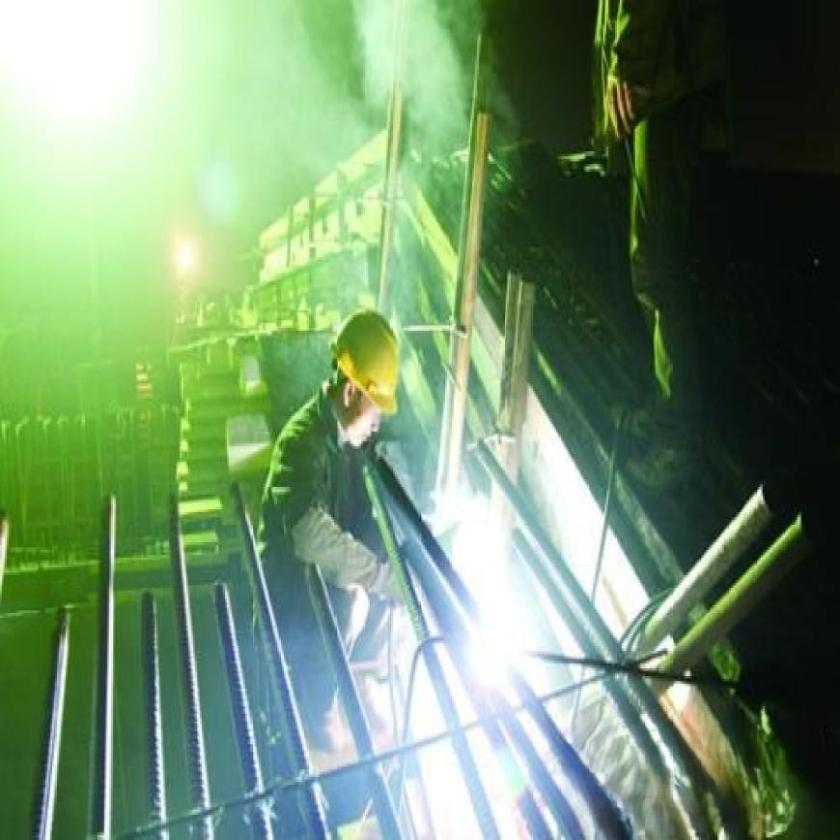Con_casco: (325, 307, 411, 472)
